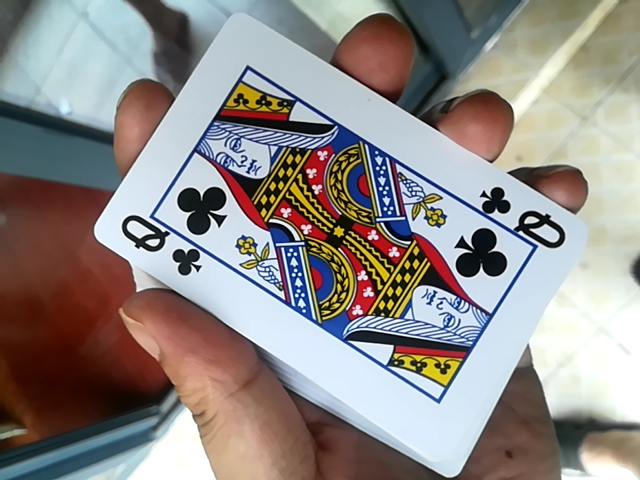mh q: (79, 5, 596, 473)
